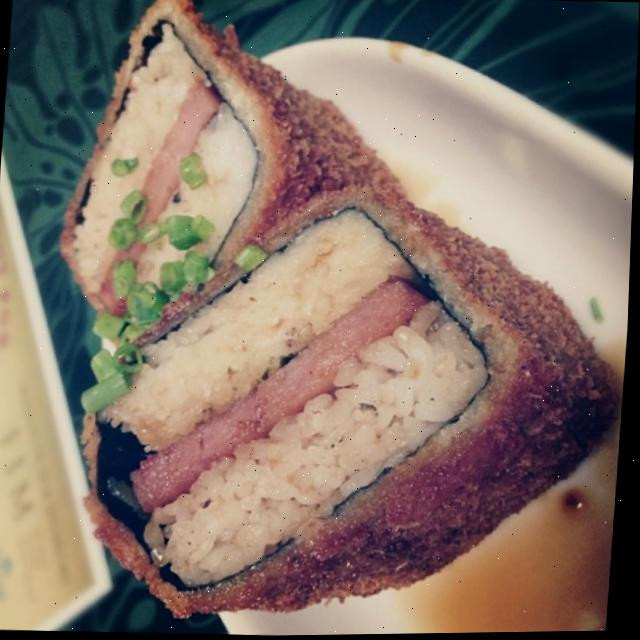寿司卷物: (22, 7, 640, 640)
